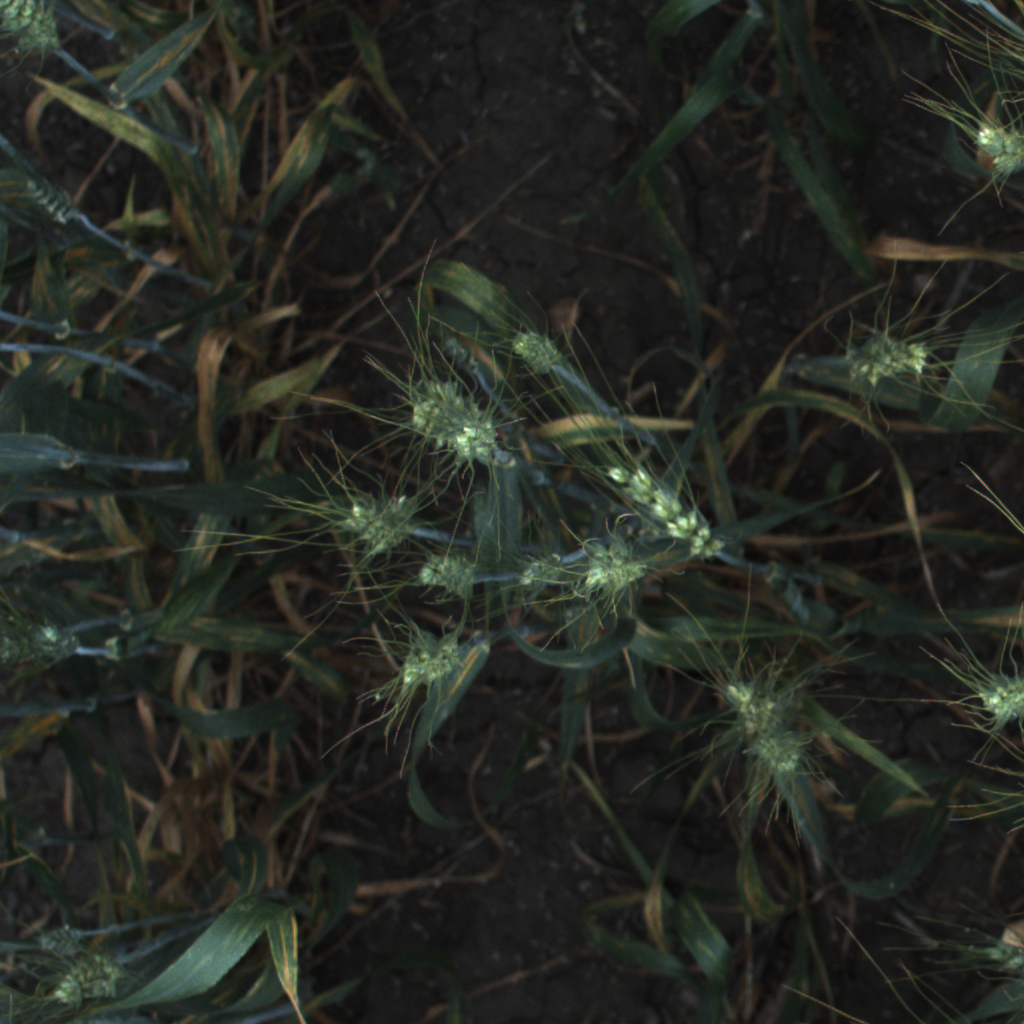wheat_head: (598, 443, 745, 571), (836, 321, 949, 399), (388, 365, 488, 449), (563, 543, 672, 610), (396, 537, 492, 604), (336, 483, 425, 552), (708, 666, 801, 732), (448, 415, 535, 485), (0, 616, 92, 682), (37, 943, 128, 1009), (736, 724, 824, 791), (503, 312, 576, 388), (960, 107, 1024, 187), (966, 656, 1024, 736), (511, 538, 586, 595), (0, 0, 59, 52), (401, 630, 452, 689)
